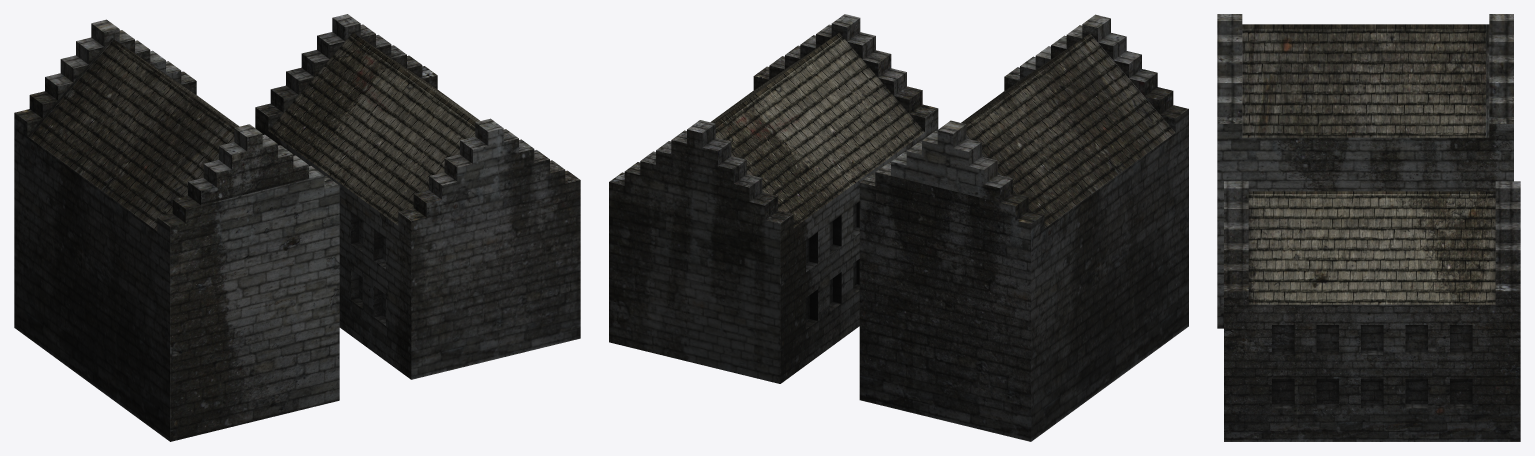
Rendered from Houses.fbx.
3 renders of one model, left to right at view 1: azimuth 30°, elevation 25°; view 2: azimuth 150°, elevation 25°; view 3: azimuth 270°, elevation 25°, orthographic. The views are drawn at different scales.
Visible parts, largest first — view 1: HouseB, House; view 2: HouseB, House; view 3: House, HouseB.
Boxes of the visible parts, box(x1,y1,x2,y2) form: HouseB: box(14, 19, 339, 441); House: box(255, 14, 580, 379); HouseB: box(859, 14, 1188, 441); House: box(609, 14, 938, 383); House: box(1224, 181, 1520, 441); HouseB: box(1217, 14, 1513, 328).
Size of the model in its own units: 306 by 204 by 202.
